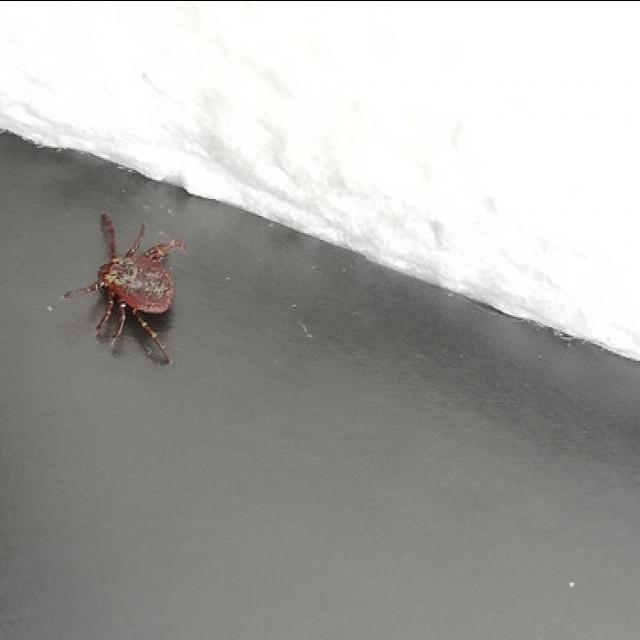Dermacentor Reticulatus-F: (58, 212, 186, 367)
